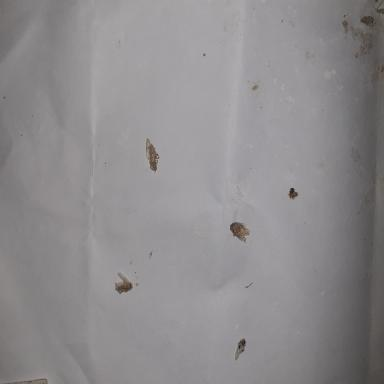pbw: (230, 221, 250, 243), (115, 272, 133, 294), (148, 144, 160, 172)
